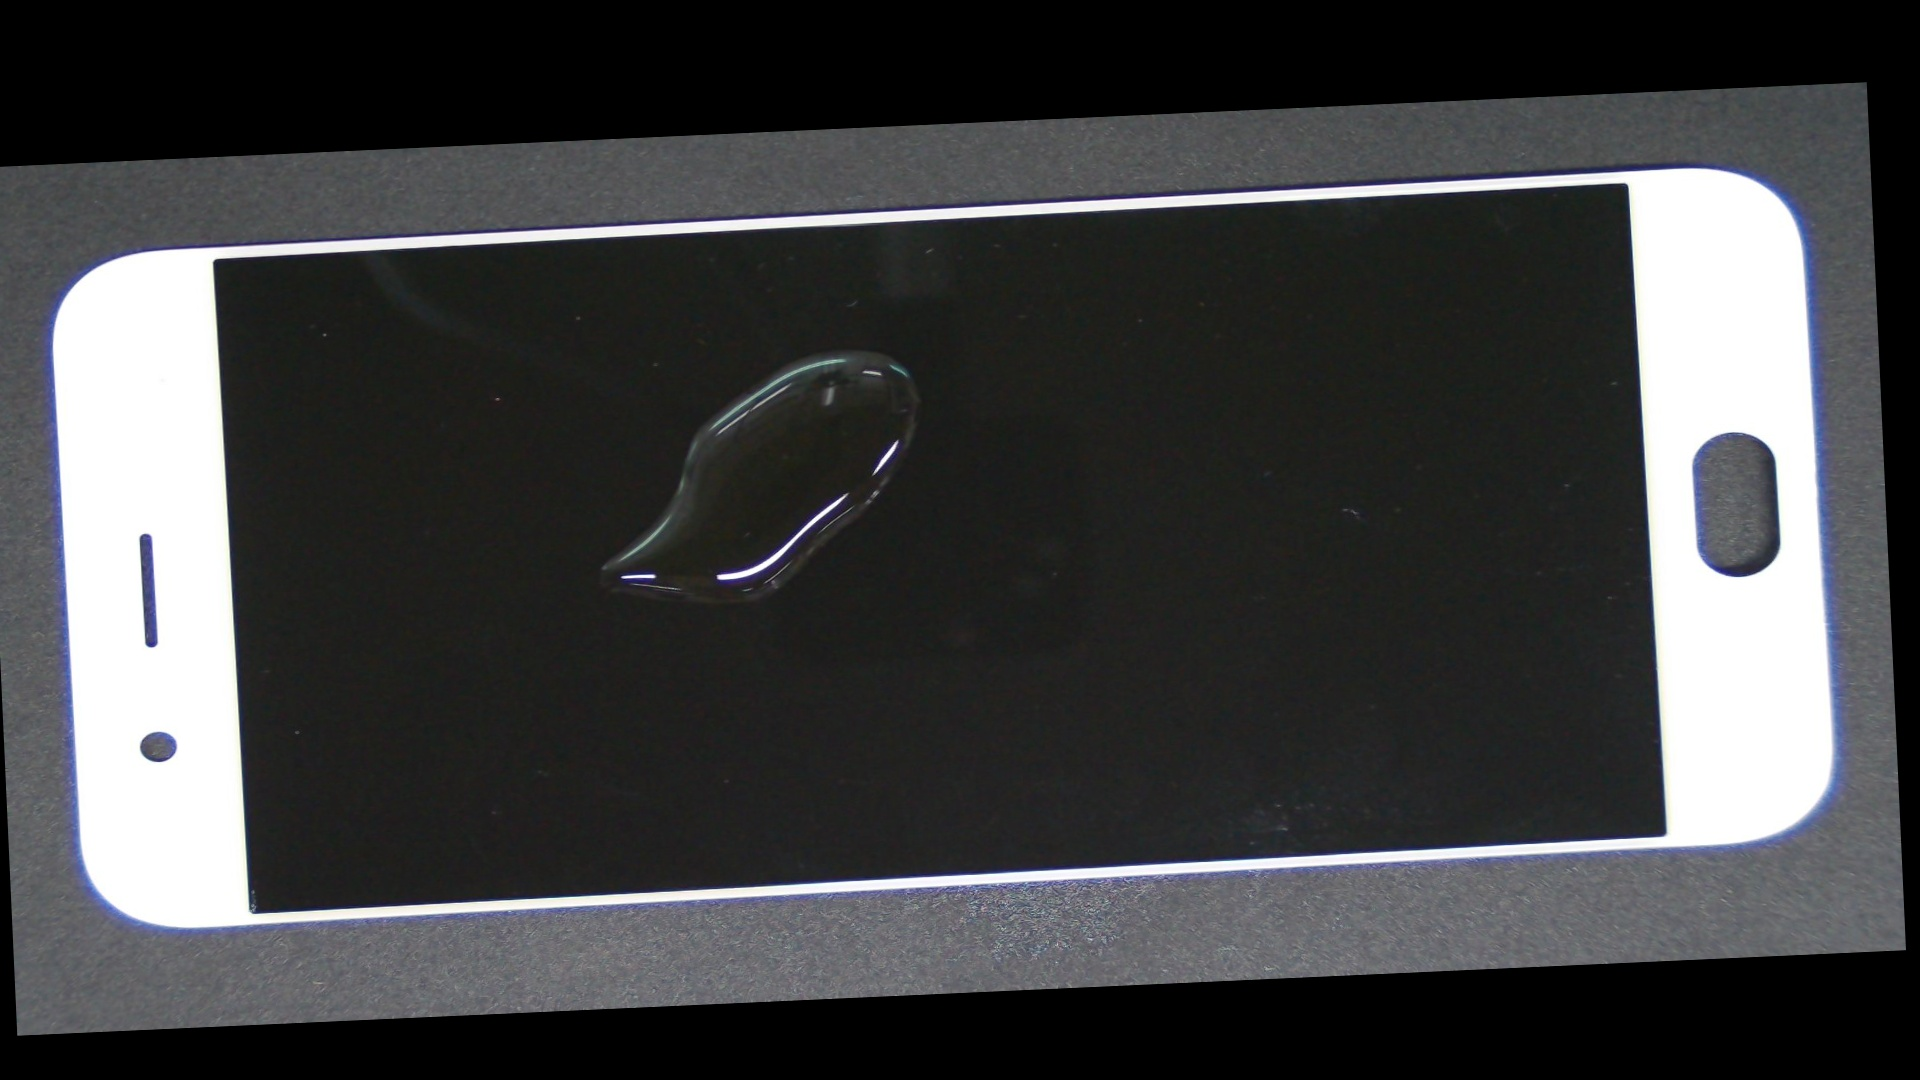oil: (409, 220, 1269, 479)
